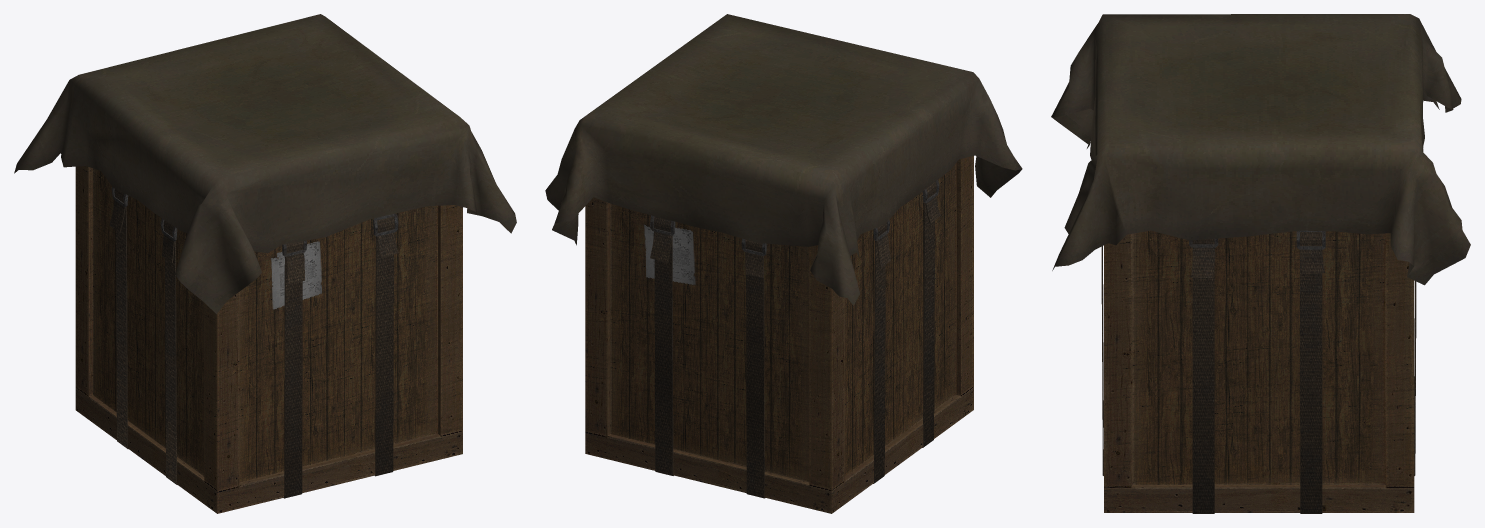
Rendered from wooden_crate_hx_4_2.glb.
3 renders of one model, left to right at view 1: azimuth 30°, elevation 25°; view 2: azimuth 150°, elevation 25°; view 3: azimuth 270°, elevation 25°, orthographic. The views are drawn at different scales.
Parts seen in each view (by area): view 1: wooden_crate_hx_4_2; view 2: wooden_crate_hx_4_2; view 3: wooden_crate_hx_4_2.
Part boxes in pixels (x1=…): wooden_crate_hx_4_2: x1=14, y1=14, x2=516, y2=513; wooden_crate_hx_4_2: x1=545, y1=14, x2=1022, y2=513; wooden_crate_hx_4_2: x1=1051, y1=14, x2=1470, y2=513.
Bounding box in the file's own units: 1.89 × 1.84 × 1.89.
Materials: 4 (4 with a texture image).
